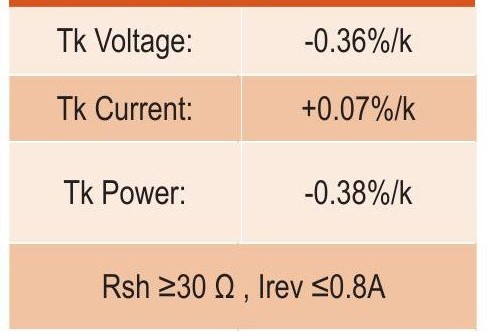table: (6, 3, 483, 332)
table column: (247, 6, 475, 246), (18, 7, 234, 245)
table row: (11, 145, 478, 241), (11, 248, 478, 327), (11, 10, 475, 74), (10, 79, 476, 139)
table spanning cell: (12, 248, 478, 329)
